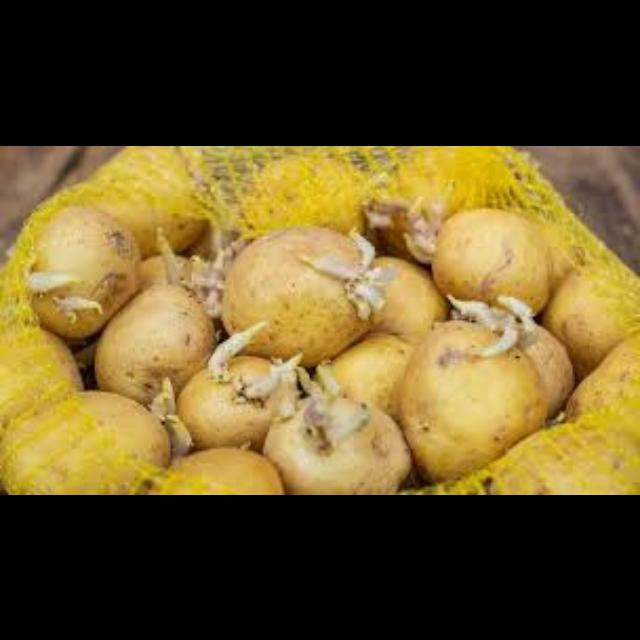Sprouted potato: (396, 322, 552, 481), (216, 231, 380, 361), (80, 272, 224, 413), (19, 199, 142, 339), (426, 200, 558, 326), (162, 346, 304, 456)
